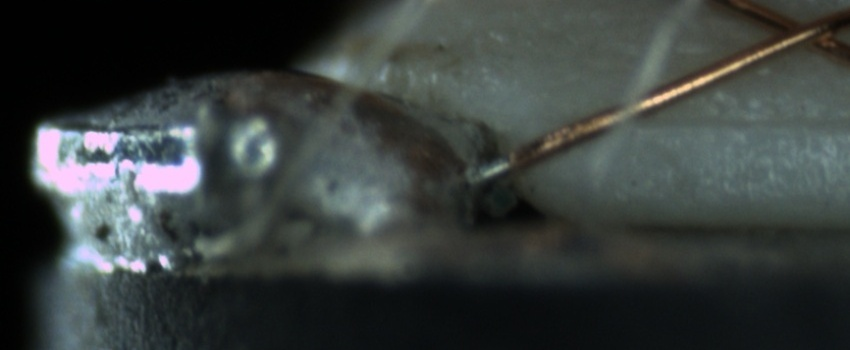CL: (743, 3, 844, 62)
DL: (636, 87, 848, 150)
TS: (465, 152, 510, 186)
